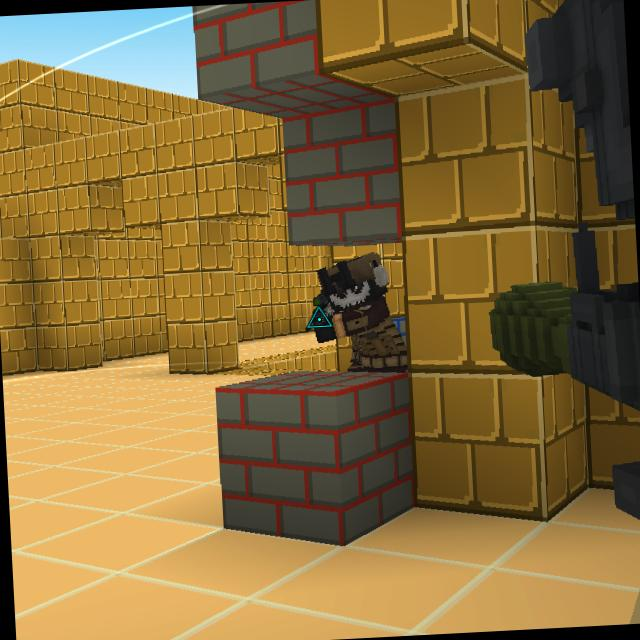enemy: (304, 249, 409, 378)
